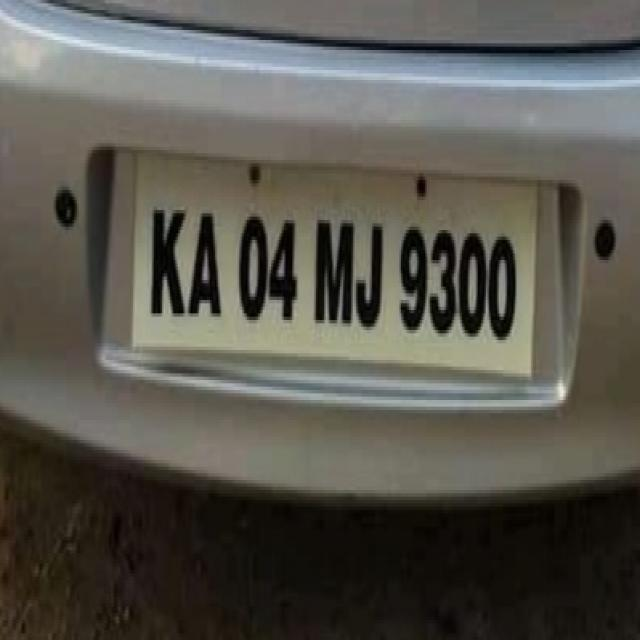0: (236, 205, 270, 328), (488, 222, 520, 342), (460, 222, 489, 346)
3: (430, 212, 458, 344)
4: (266, 197, 299, 330)
9: (397, 211, 430, 339)
A: (188, 200, 225, 326)
J: (354, 208, 386, 336)
K: (148, 202, 186, 324)
M: (310, 208, 356, 334)
